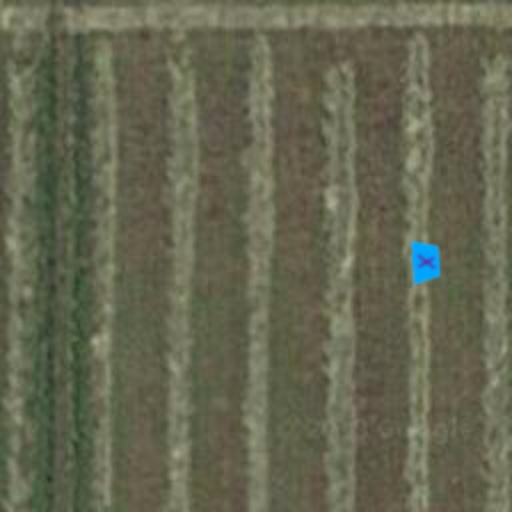trapezoid: (402, 238, 450, 286)
